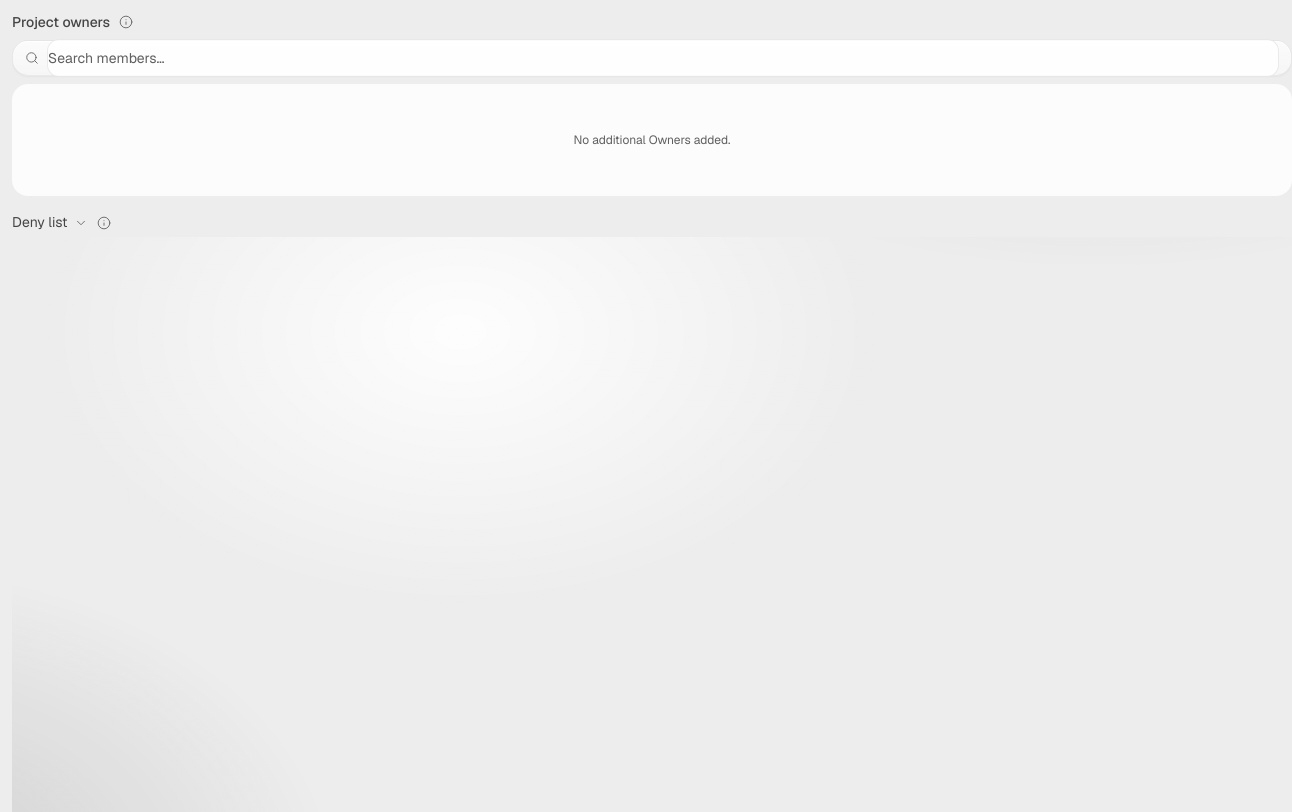
Test case: OrganizationAccessEditor — deny list › keeps the caller out of the owner and deny pickers
The width and height of the screenshot is (1292, 812).
Step 1. Type "firm.example" into the search field labelled "Project owners" → (663, 58), box [47,39,1279,77]
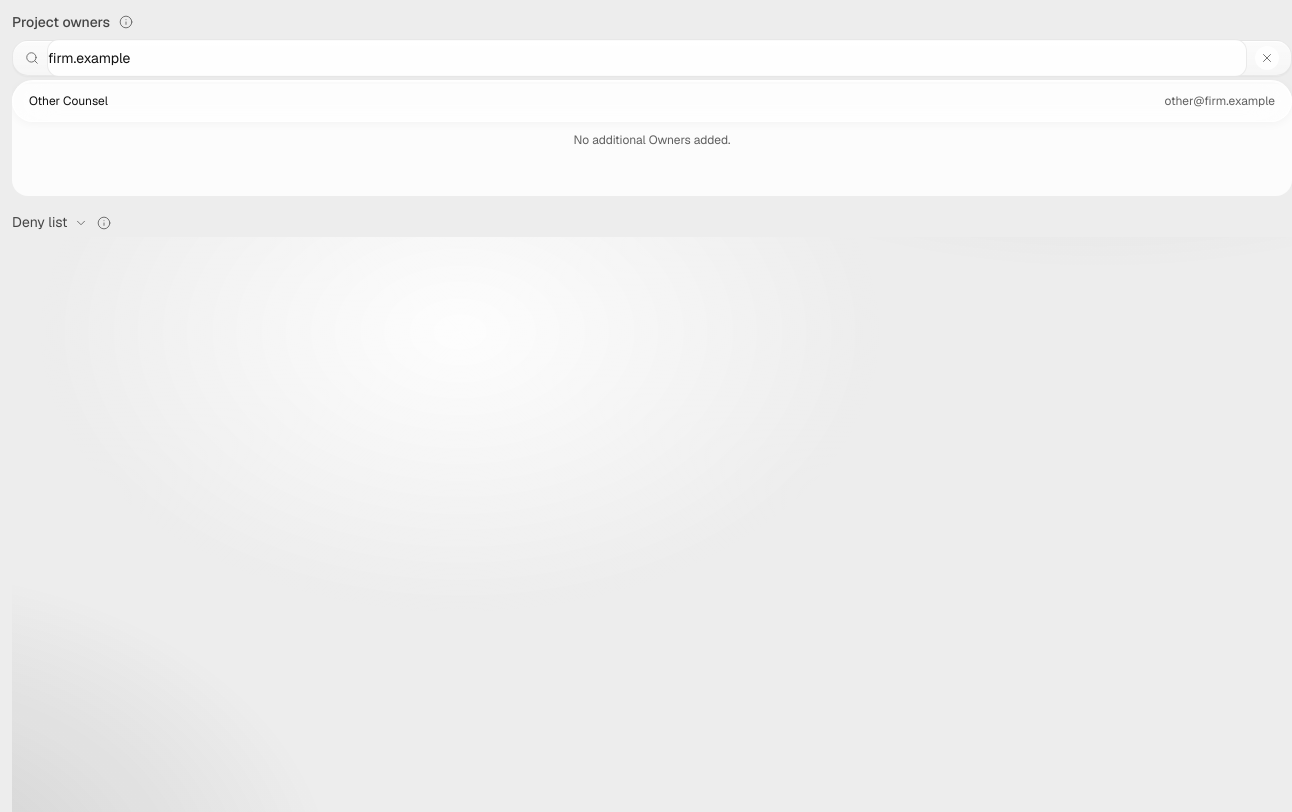
Expected: the text "Me" is not shown
Expected: the text "Other Counsel" is shown, [29,93,108,109]
